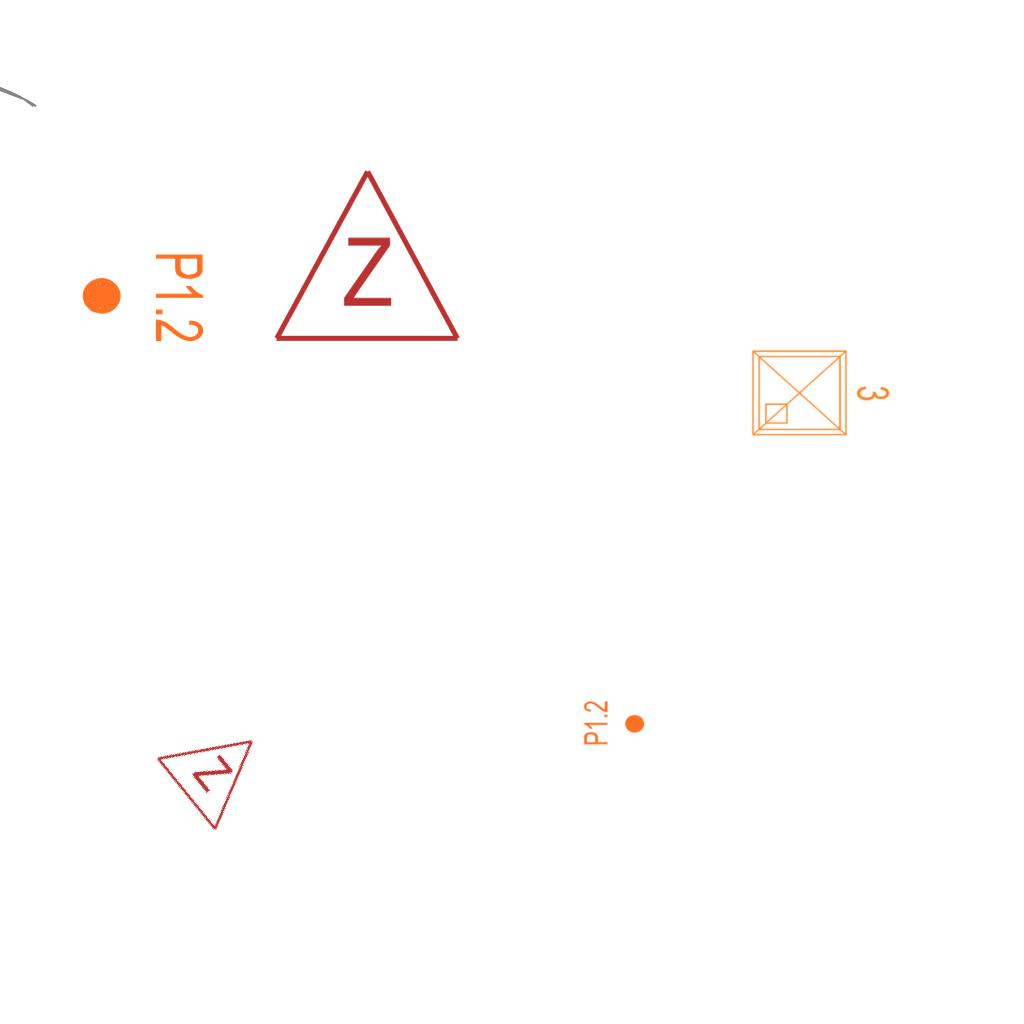Downlight_LED_Einbauleuchten_Flur: (79, 251, 207, 344), (582, 700, 646, 746)
Einbaudownlights_LED_Konferenzraeume: (745, 339, 895, 443)
Zimmersignalleuchte: (267, 156, 463, 356), (148, 697, 288, 837)
